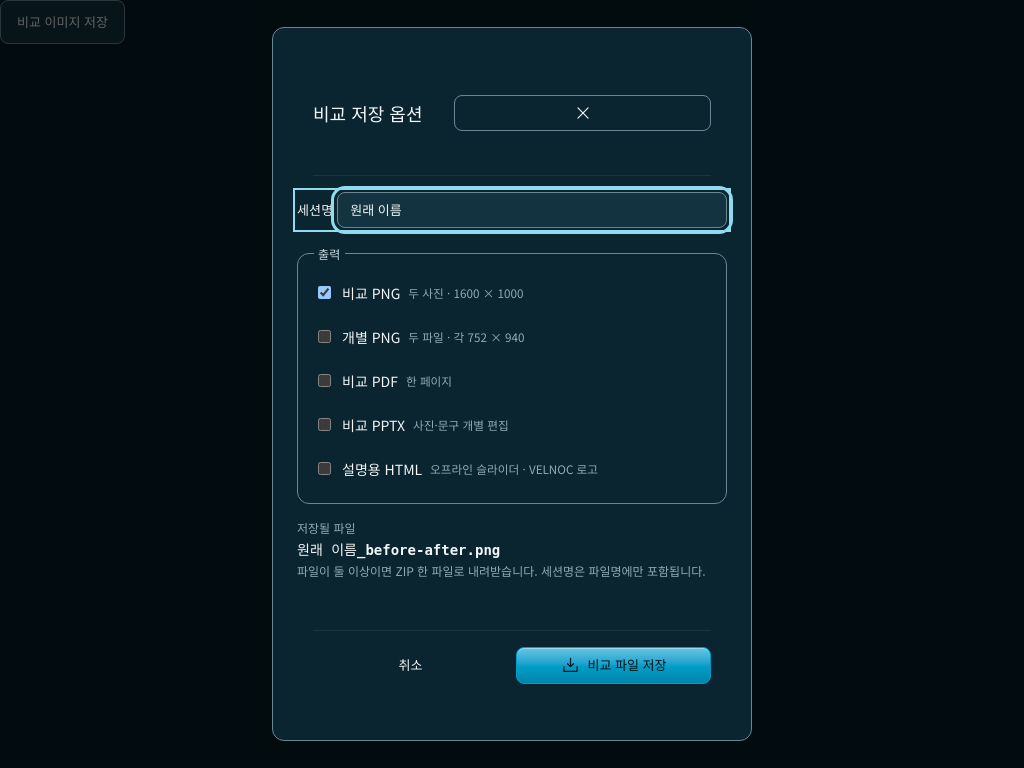
Test case: comparison export dialog › updates the safe filename when the session name is edited
// the session name changes.
Replace the text in the field labelled "세션명" with "회의/비교: 9" at (532, 210), box 337,192 -> 727,228
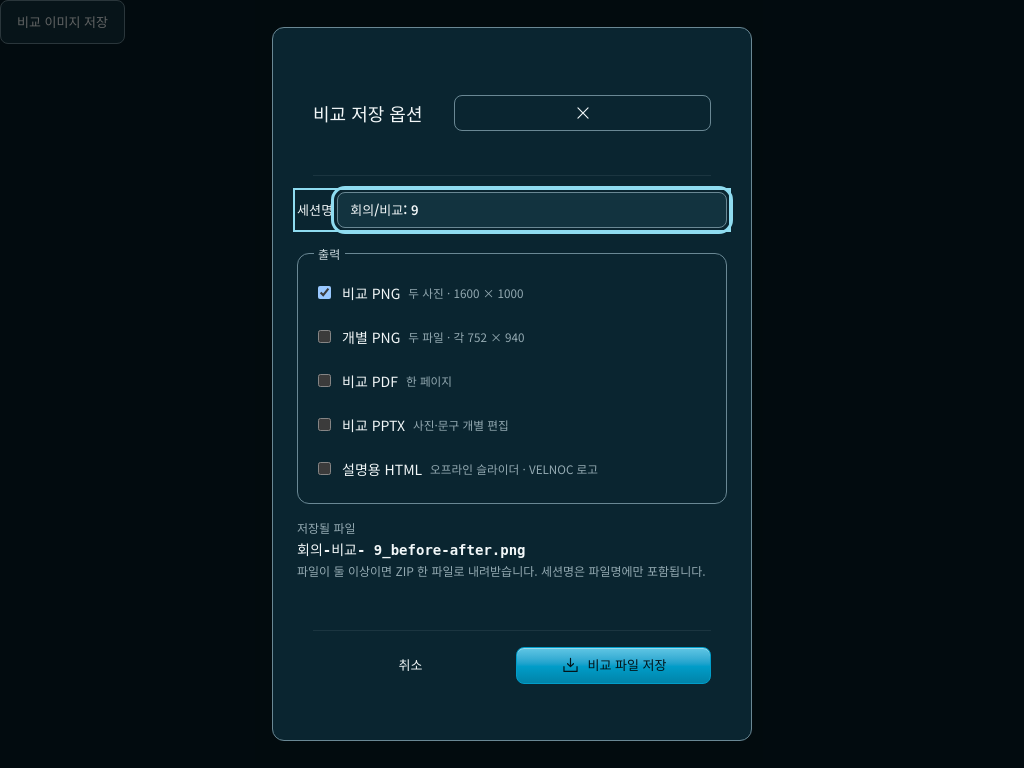
Expected: the text "회의-비교- 9_before-after.png" is shown, 297,542 -> 526,558
